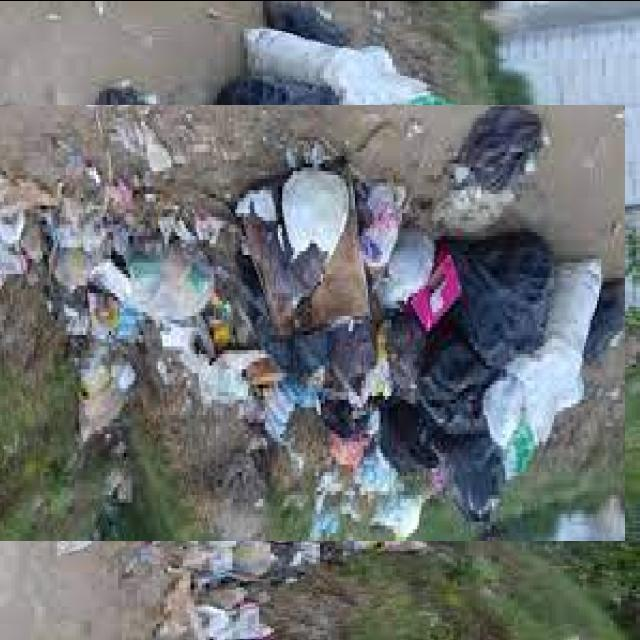garbage: (40, 54, 576, 590)
